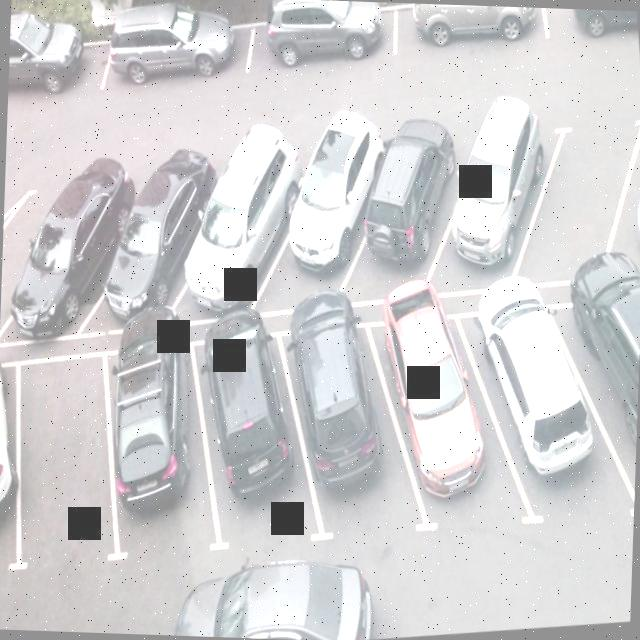car: (275, 303, 435, 551), (460, 295, 620, 529), (366, 302, 516, 544), (196, 318, 315, 550), (105, 340, 222, 554), (544, 276, 640, 502), (182, 131, 302, 308), (286, 111, 396, 303), (28, 164, 138, 352), (444, 109, 556, 281), (116, 143, 219, 330), (366, 113, 466, 290), (248, 0, 399, 82), (109, 12, 247, 92), (392, 2, 544, 66), (7, 35, 106, 114), (0, 358, 32, 573), (538, 8, 638, 56)
free: (5, 356, 131, 569), (523, 109, 640, 290), (0, 161, 67, 352)
